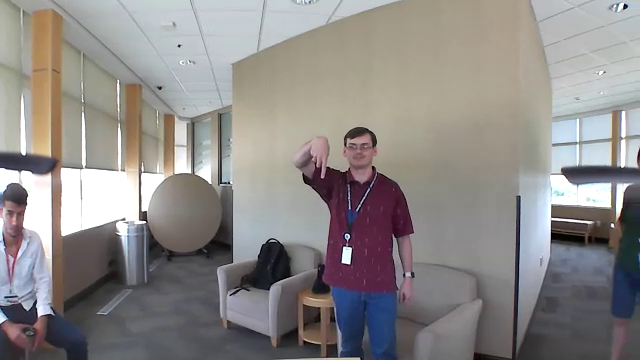down: (306, 133, 336, 182)
